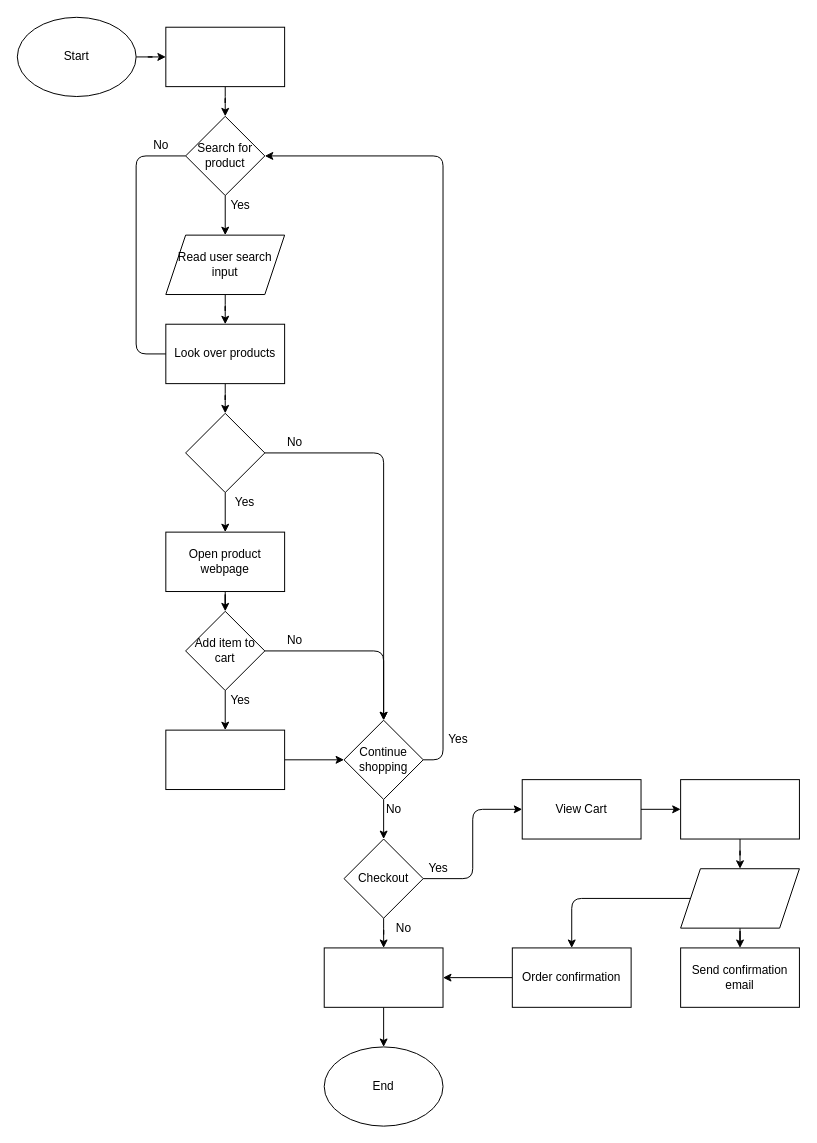
Image size: 817x1143. Some labels were removed from this diagram. The box of each missing label's shape, as (x1, y1, x2, y2) in pixels:
Added to cart confirmation: (165, 729, 285, 790)
Enter website home page: (165, 26, 285, 87)
Leave website: (323, 947, 443, 1007)
Read payment info: (680, 868, 799, 928)
View Item: (185, 412, 265, 493)
View Payment: (680, 779, 799, 839)
